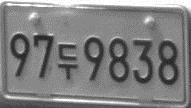3: (130, 38, 154, 84)
7: (31, 32, 54, 80)
8: (157, 39, 179, 86), (108, 36, 129, 83)
9: (9, 32, 30, 78), (83, 36, 104, 82)
두: (56, 42, 80, 80)
